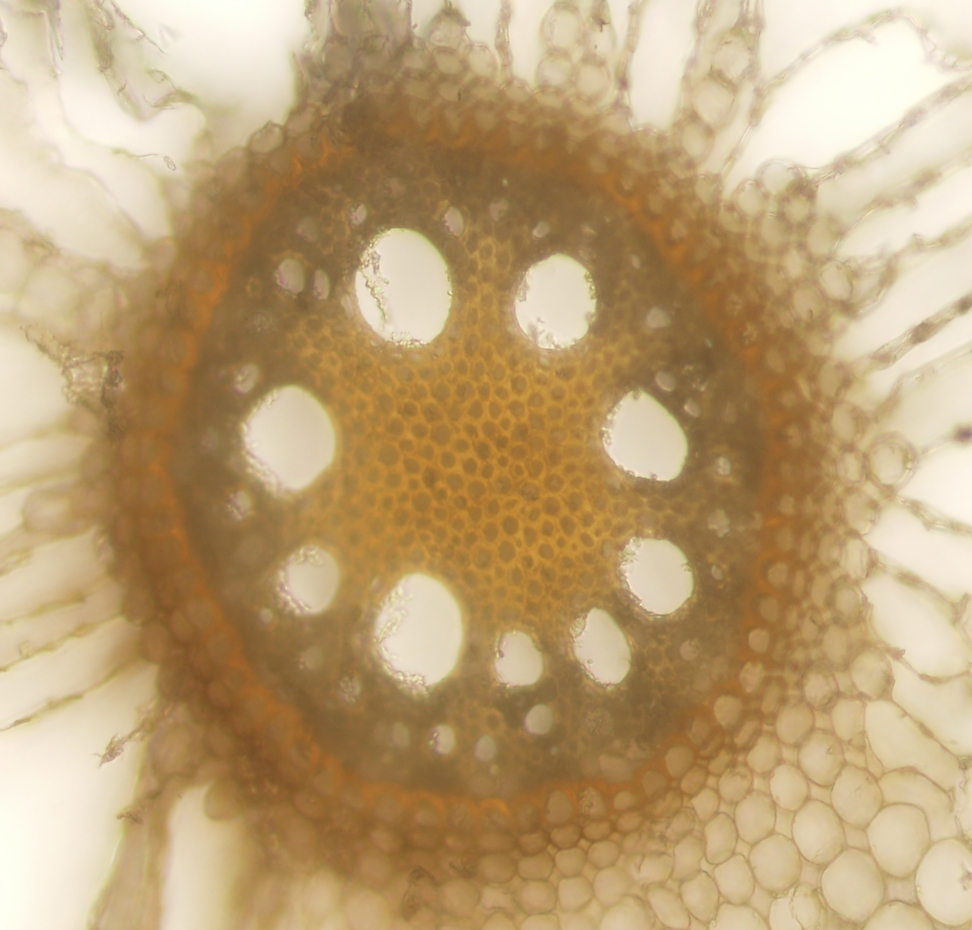lm: (354, 227, 452, 346), (371, 575, 466, 692), (238, 383, 339, 492), (511, 252, 598, 350), (600, 386, 688, 481), (617, 534, 695, 615), (568, 606, 633, 684), (277, 543, 339, 617)
